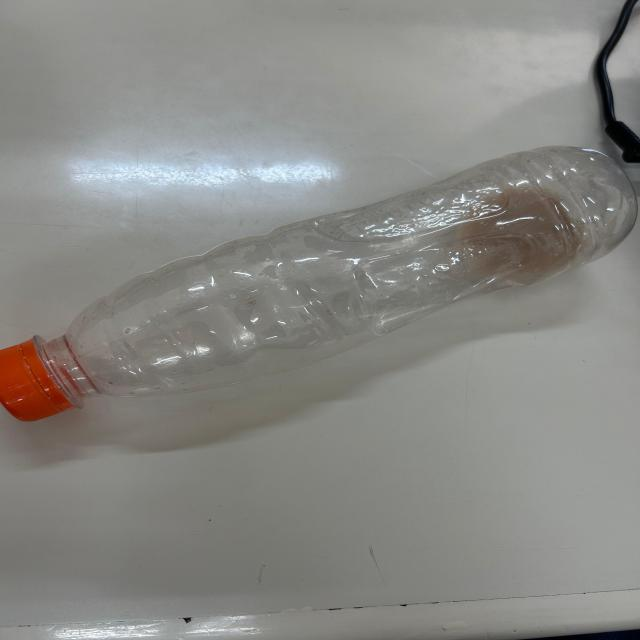inorganic: (0, 144, 640, 420)
